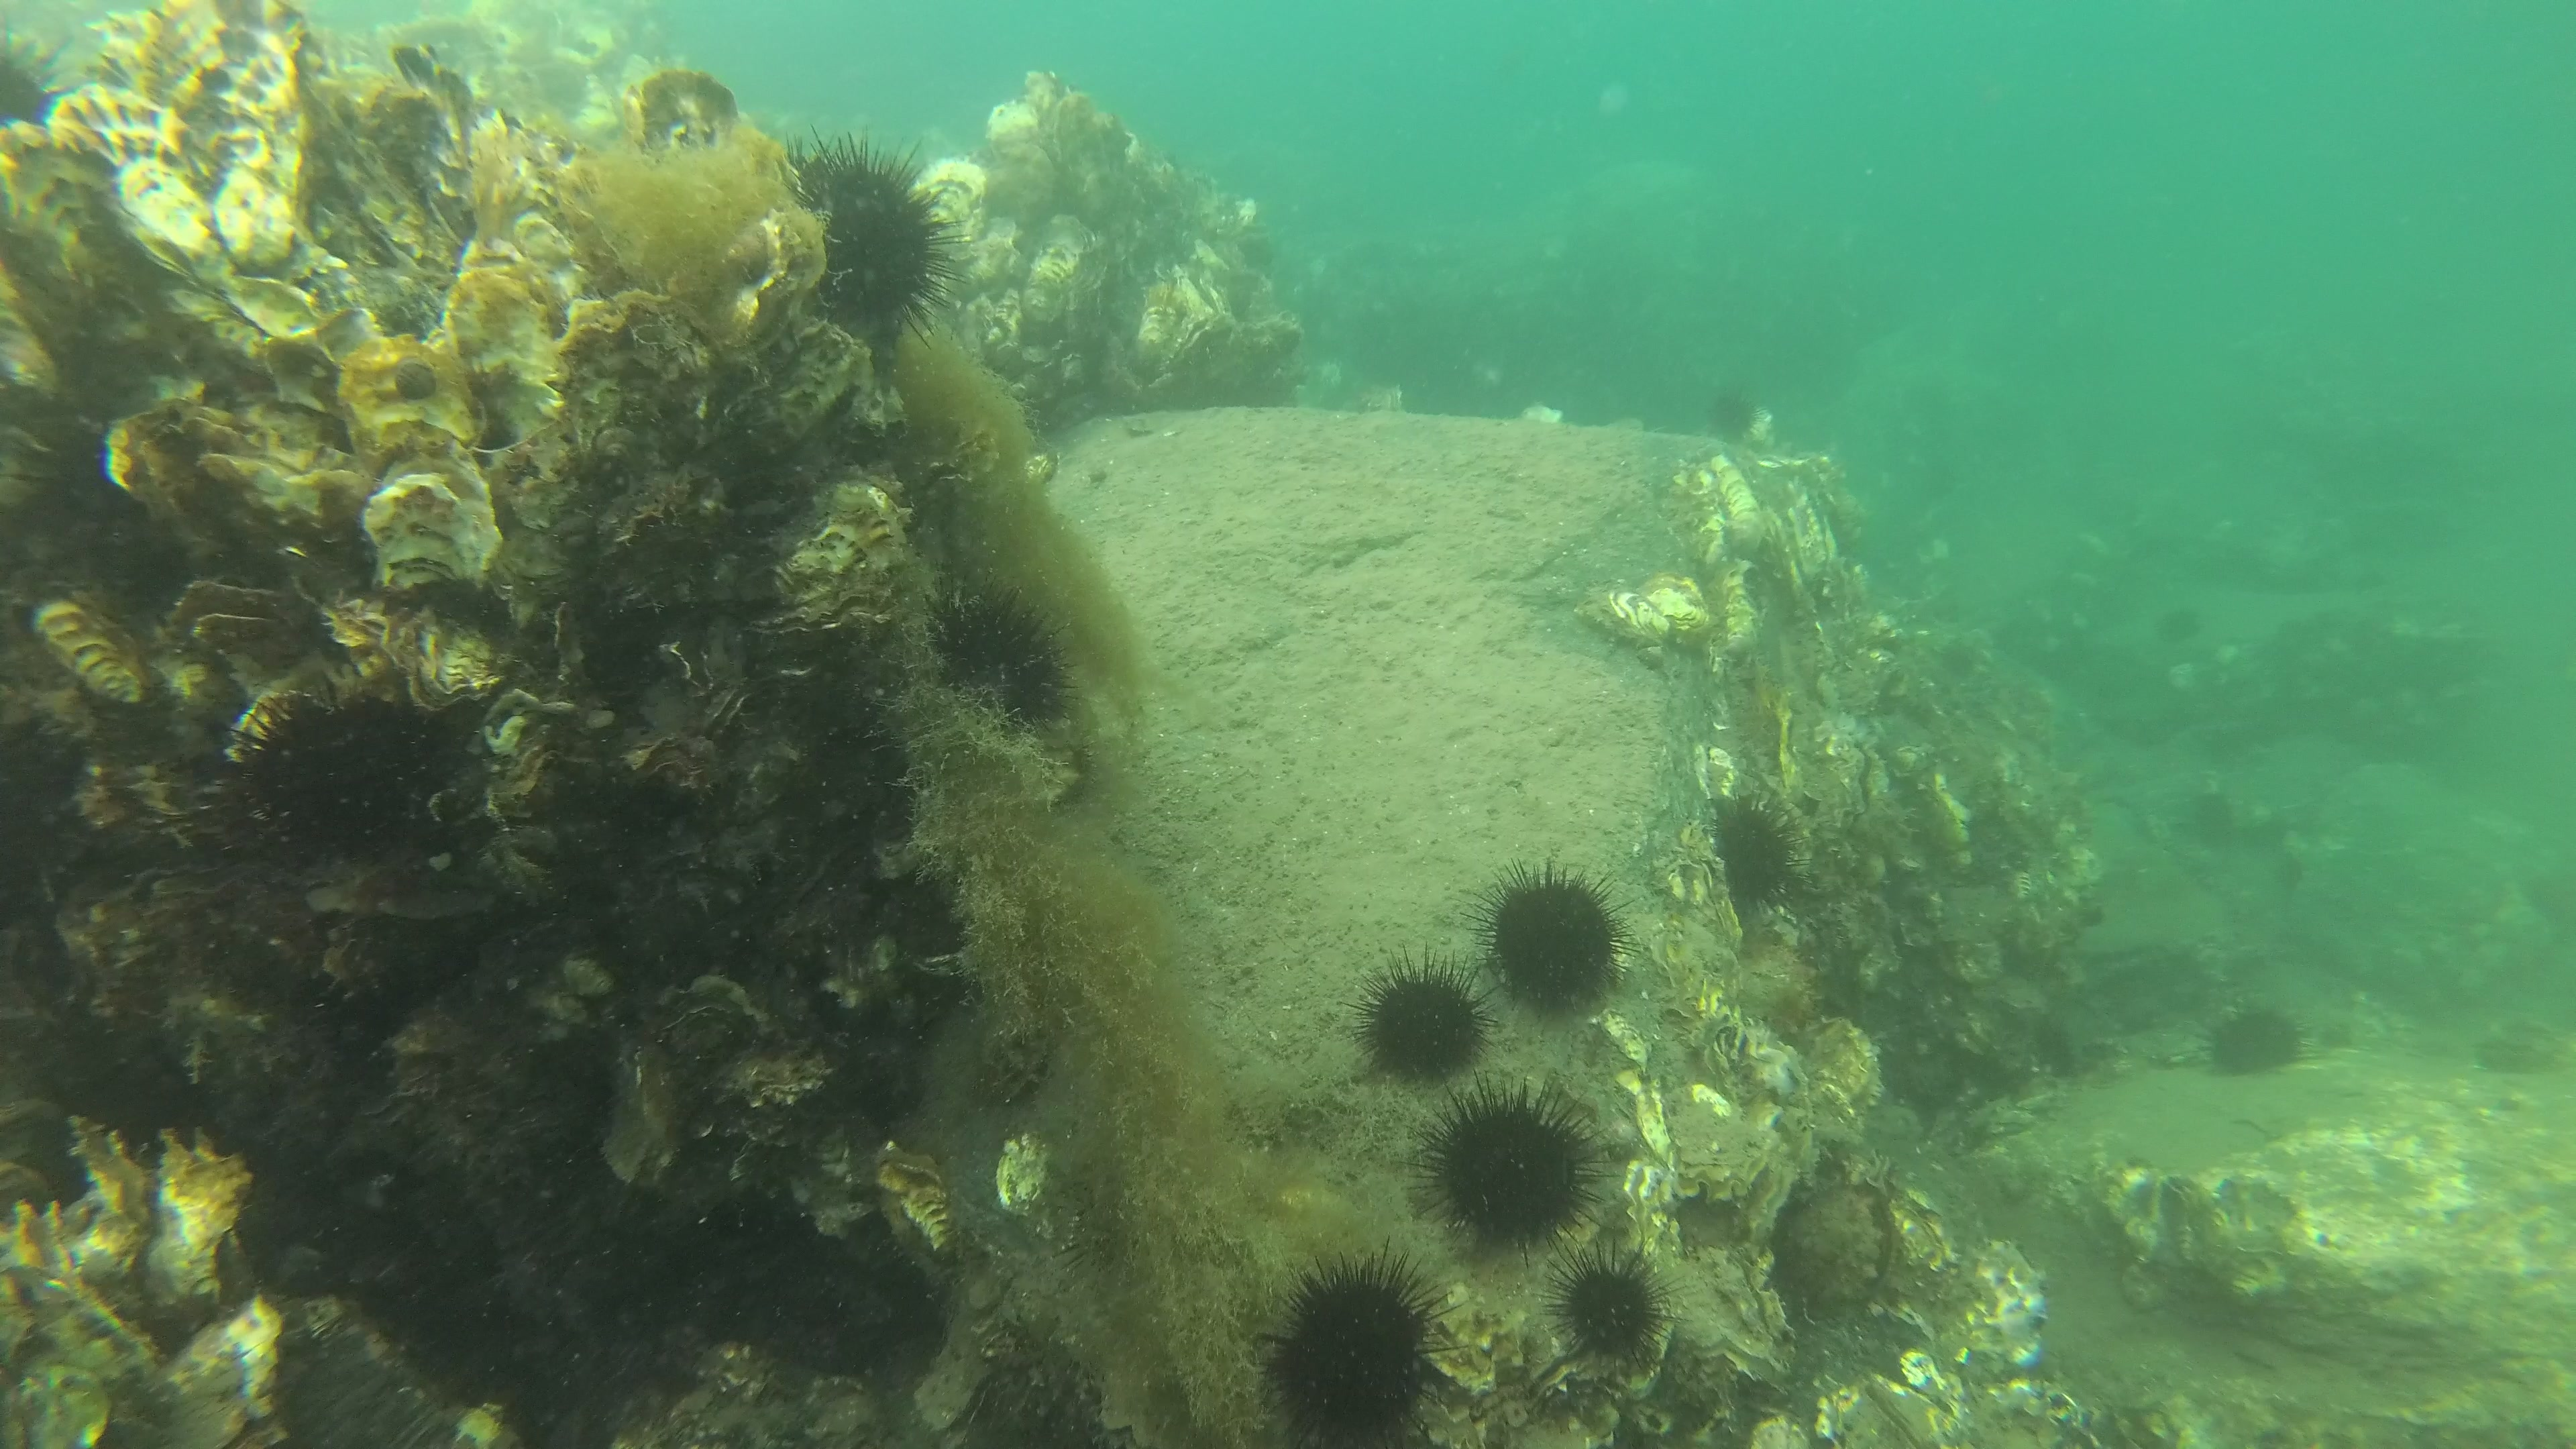echinus: (766, 127, 973, 359), (1244, 1249, 1477, 1449), (1407, 1069, 1615, 1251), (1465, 860, 1642, 1023), (913, 577, 1081, 738), (1338, 943, 1486, 1093), (1700, 786, 1824, 920), (1541, 1244, 1677, 1366), (2196, 996, 2319, 1076)
